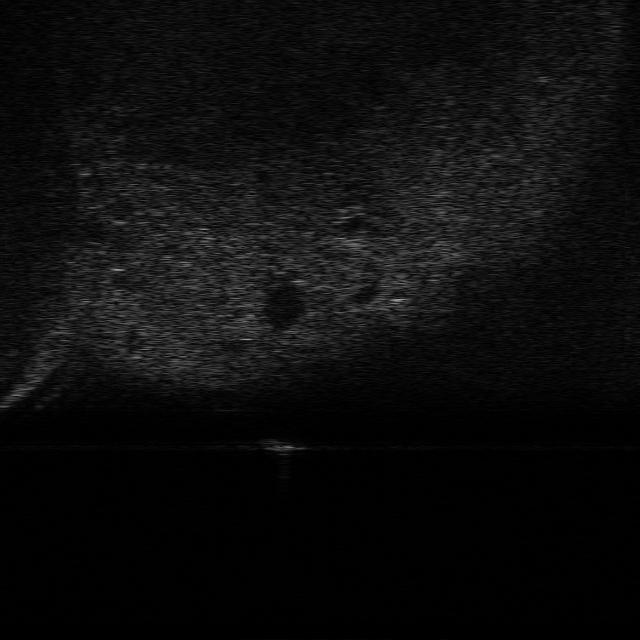cube: (264, 436, 306, 453)
